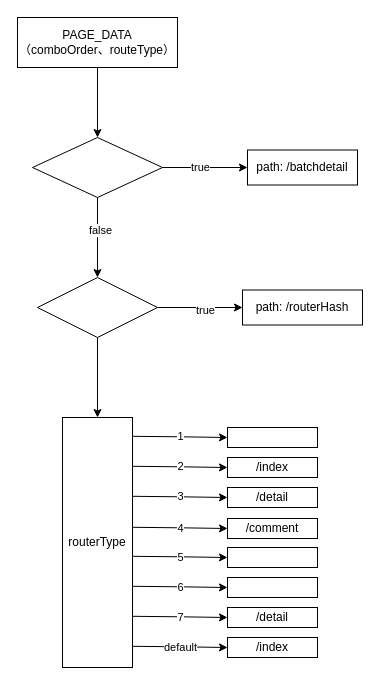
The diagram is 380 pixels wide and 685 high, and some of its shapes have lost their labels. The centre of each missing label's shape, as x and y in pixels:
"/againComment" goes at point (272, 557).
"/cancel" goes at point (272, 587).
"/general" goes at point (272, 437).
"comboOrder > 0" goes at point (97, 167).
"getRouterHash" goes at point (97, 307).
